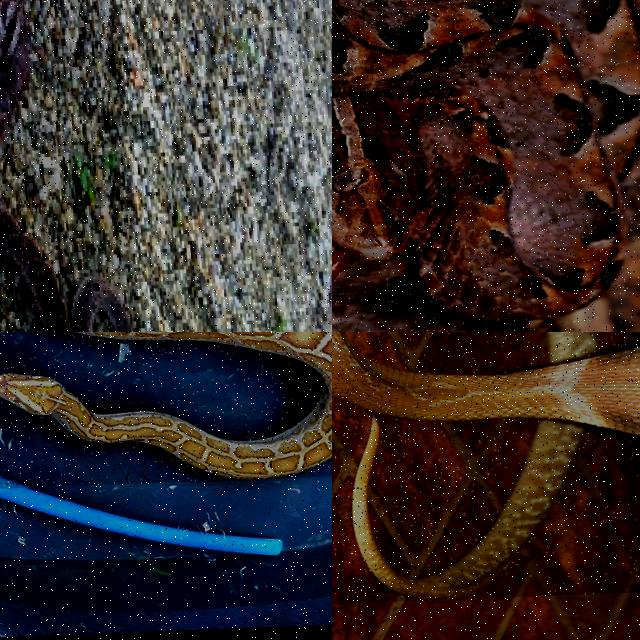Calloselasma rhodostoma: (332, 0, 639, 331), (0, 195, 132, 331)
Naja kaouthia: (332, 332, 639, 599)
Python bivittatus: (0, 332, 331, 479)
